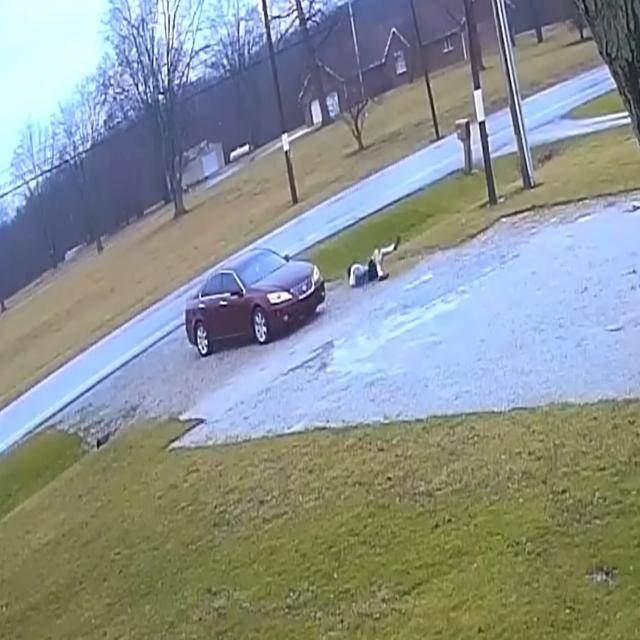fallen: (346, 236, 399, 287)
